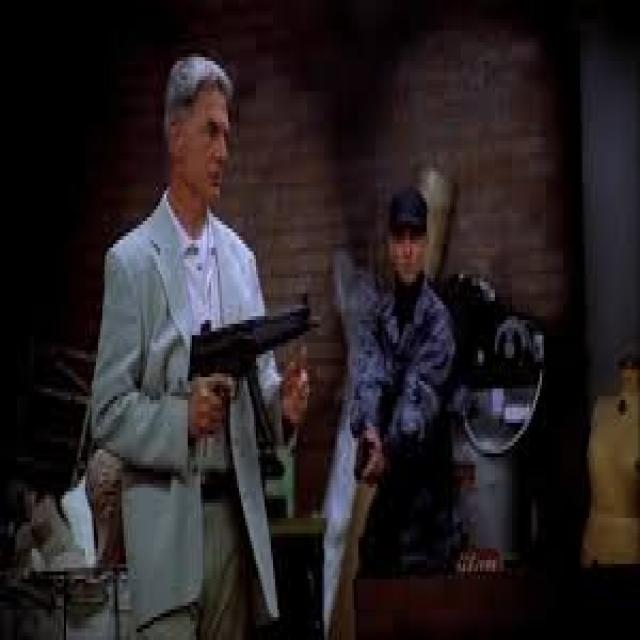gun: (171, 287, 321, 469), (347, 416, 383, 484)
